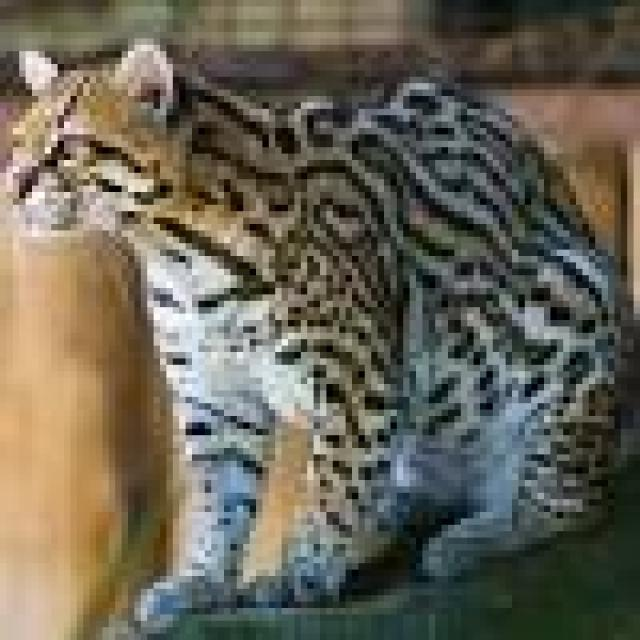Jaguar: (6, 32, 634, 602)
